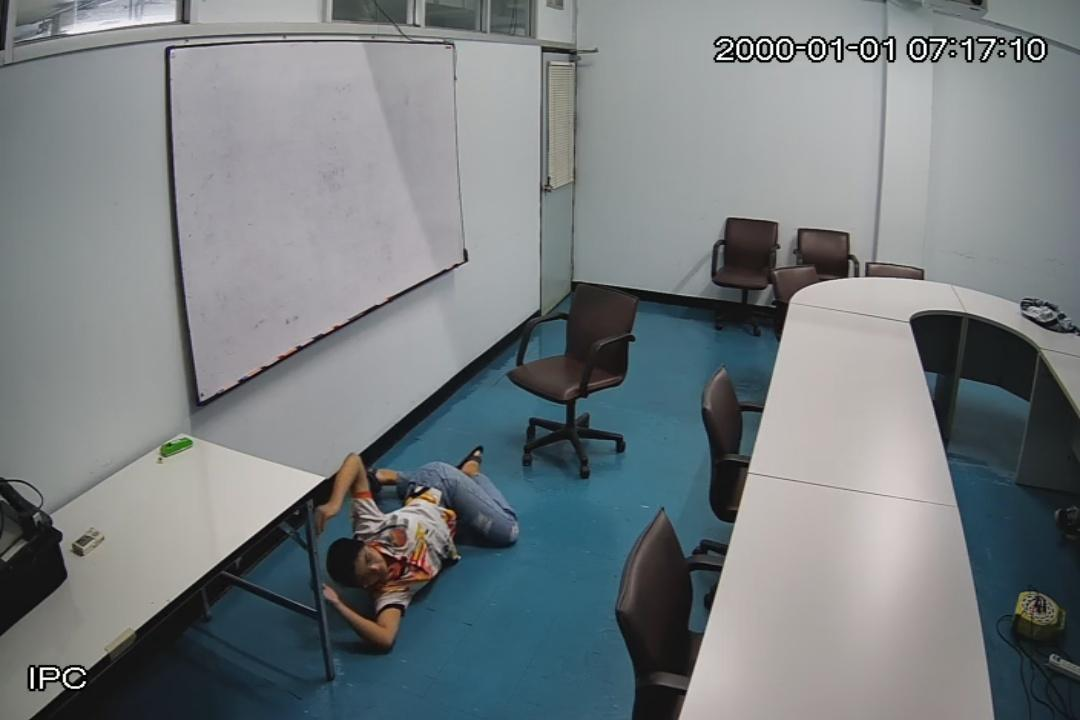fall: (318, 454, 519, 648)
